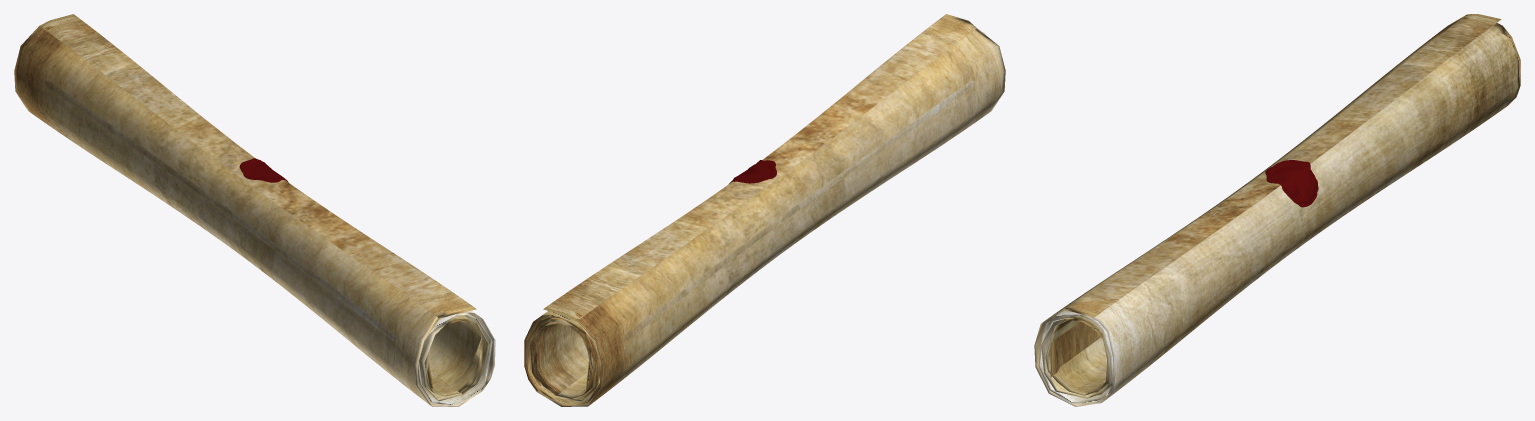
Rendered from Full_Scroll.fbx.
3 renders of one model, left to right at view 1: azimuth 30°, elevation 25°; view 2: azimuth 150°, elevation 25°; view 3: azimuth 330°, elevation 25°, orthographic.
Parts seen in each view (by area): view 1: Scroll, Seal; view 2: Scroll, Seal; view 3: Scroll, Seal.
Boxes of the visible parts, x1,y1,x2,y2 form: Scroll: [14, 14, 495, 406]; Seal: [239, 158, 288, 182]; Scroll: [524, 14, 1005, 406]; Seal: [729, 160, 776, 183]; Scroll: [1034, 14, 1520, 406]; Seal: [1265, 160, 1318, 207].
Bounding box in the file's own units: 0.3264 × 0.3726 × 2.93.
